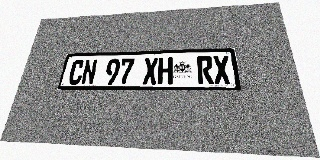7: (118, 58, 135, 85)
9: (104, 59, 121, 85)
C: (67, 60, 85, 85)
H: (158, 57, 173, 84)
N: (80, 59, 98, 85)
R: (197, 56, 214, 84)
X: (212, 55, 231, 84), (142, 58, 158, 84)
